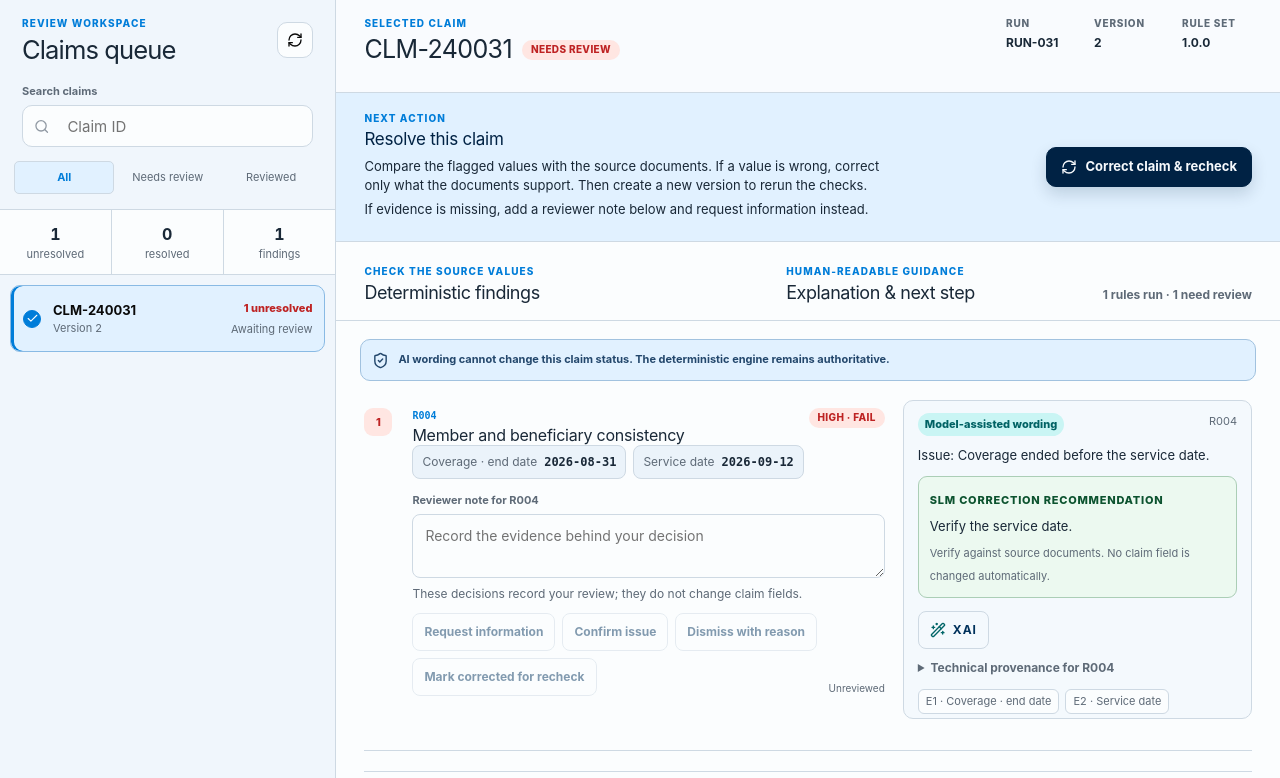
Test: AssistantPanel › wires the assistant into the guidance column of every finding the reviewer can act on
Click the button with aria-label "XAI: explain finding R004" at [953, 630], box top-left (918, 611), bottom-right (989, 649)
(page scrolled)
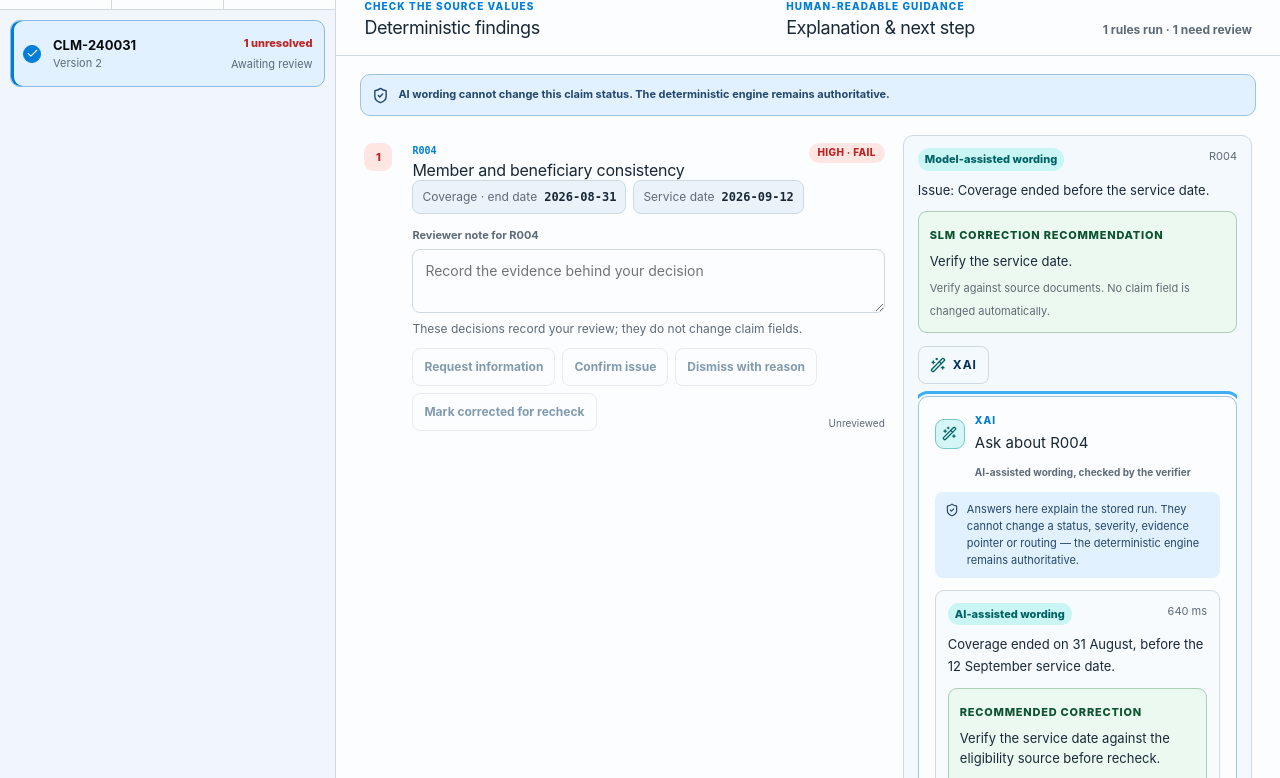
Expected: the text "Coverage ended on 31 August, before the 12 September service date." is shown, top-left (948, 634), bottom-right (1207, 677)
Expected: the text "cannot change a status, severity, evidence" is shown, top-left (967, 502), bottom-right (1199, 567)
Note: Closing and re-opening shows the turns the reviewer already read, without asking again.
Click the button named "XAI: explain finding R004" at [953, 365], box top-left (918, 346), bottom-right (989, 384)
(page scrolled)
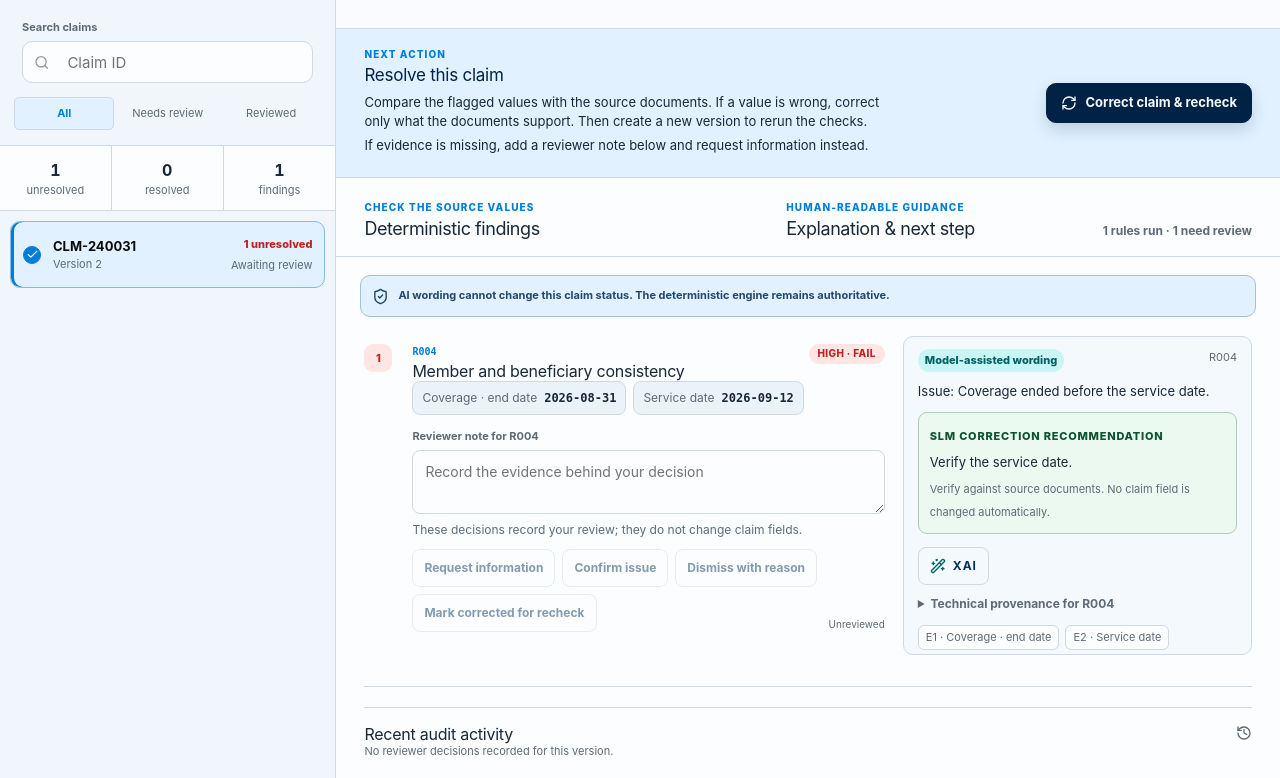
Expected: the button with aria-label "XAI: explain finding R004" is collapsed
Click the button with aria-label "XAI: explain finding R004" at [953, 566], box top-left (918, 547), bottom-right (989, 585)
(page scrolled)
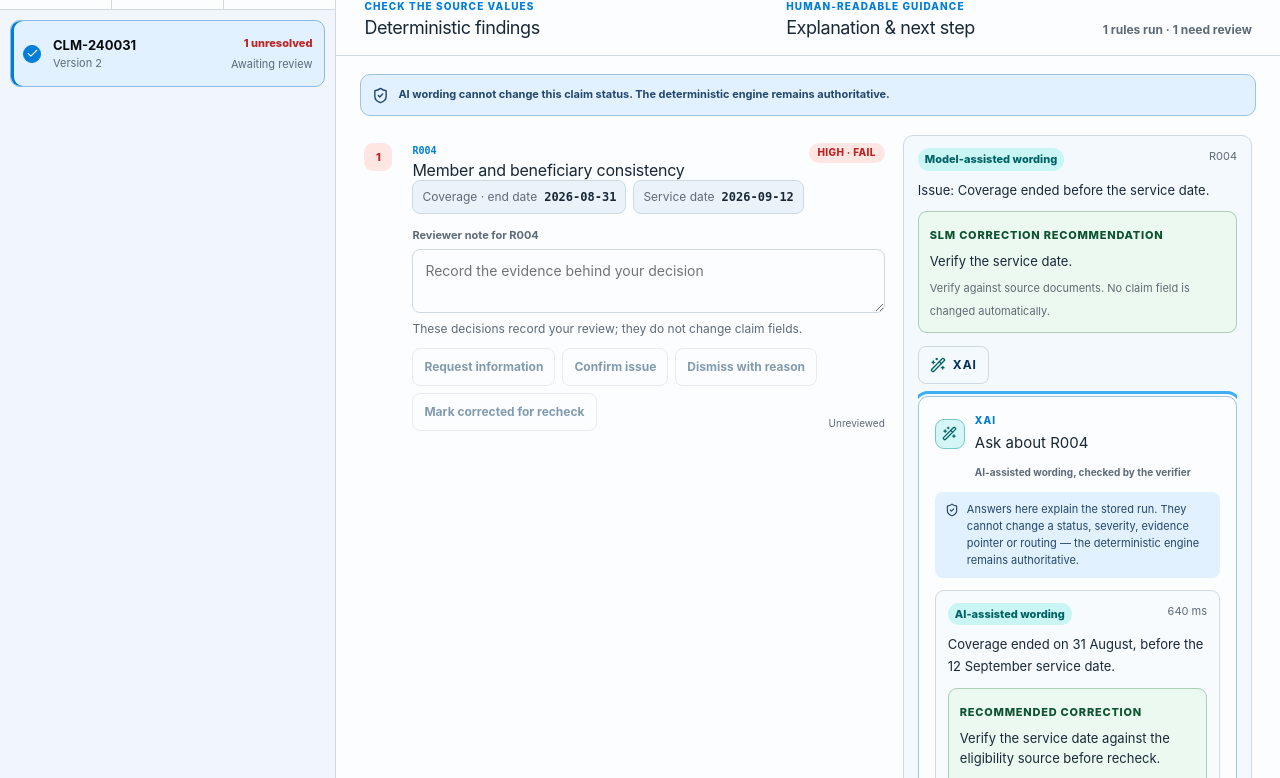
Expected: the button named "XAI: explain finding R004" is expanded, top-left (918, 346), bottom-right (989, 384)
Expected: the text "Coverage ended on 31 August, before the 12 September service date." is shown, top-left (948, 634), bottom-right (1207, 677)
